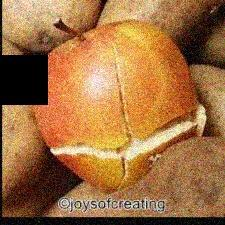rotten apple: (30, 20, 215, 194)
